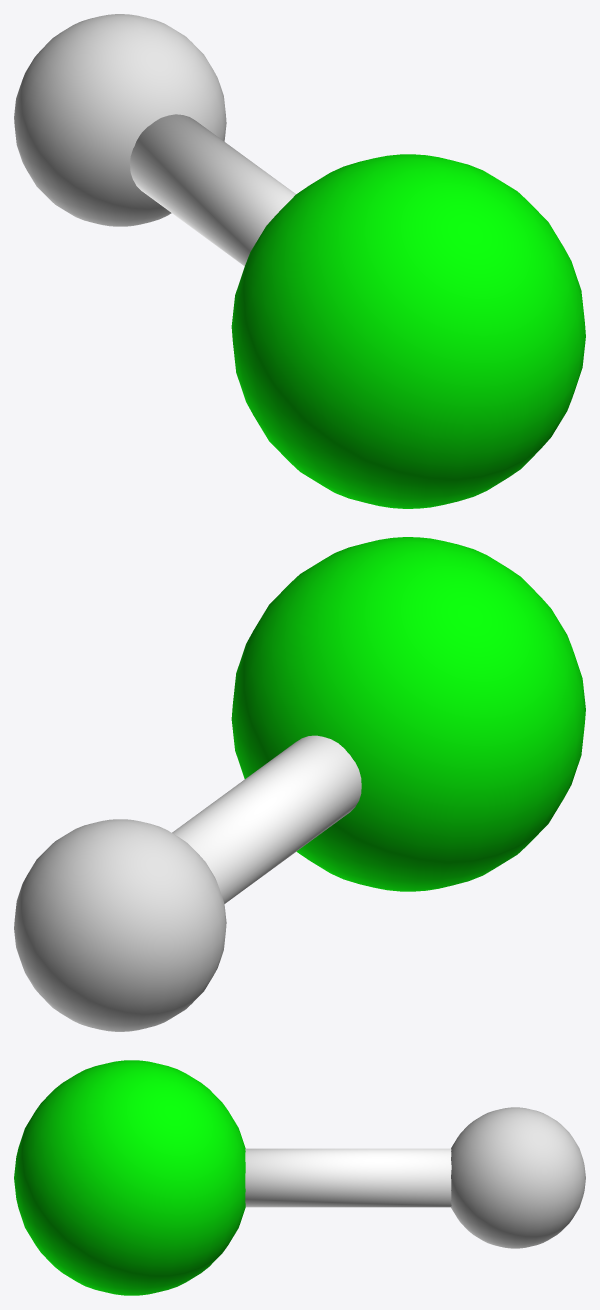
File: hcl.fbx
The picture shows the model from 3 angles, top to bottom: view 1: azimuth 30°, elevation 25°; view 2: azimuth 150°, elevation 25°; view 3: azimuth 270°, elevation 25°; orthographic projection. The views are drawn at different scales.
Parts seen in each view (by area): view 1: h; view 2: h; view 3: h.
Part boxes in pixels (x1,y1,x2,y2): h: (14,14,585,508); h: (14,537,585,1031); h: (14,1060,585,1295).
Bounding box in the file's own units: 200 × 200 × 485.
